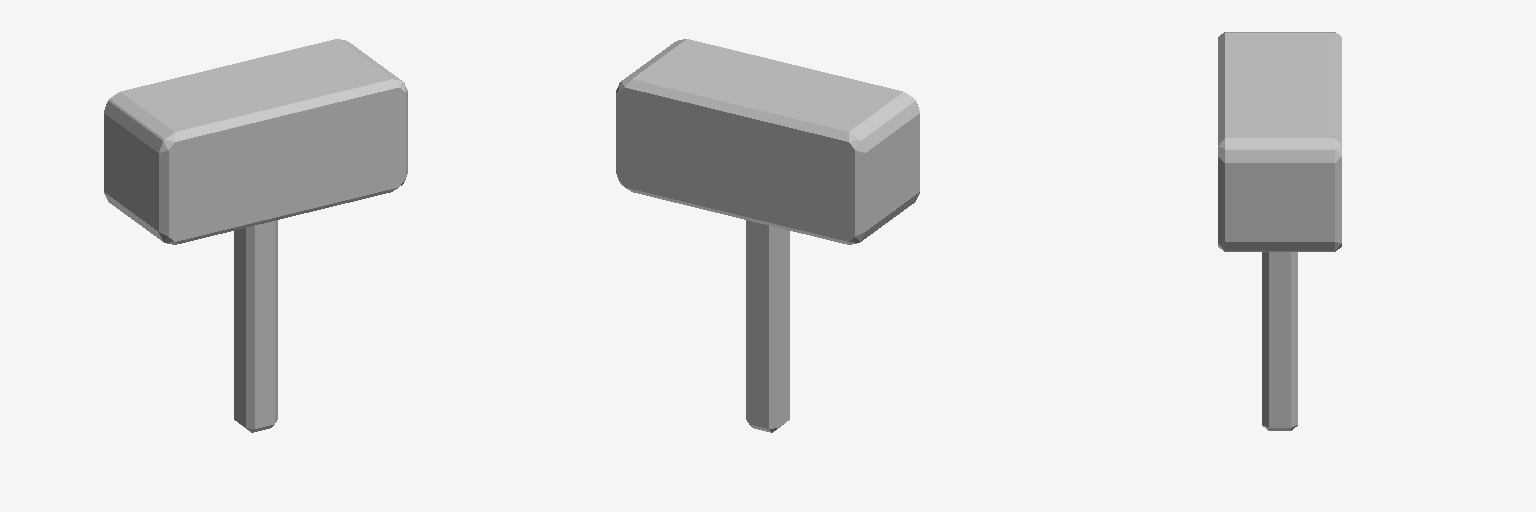
The model's file is hammer.obj.
3 renders of one model, left to right at view 1: azimuth 30°, elevation 25°; view 2: azimuth 150°, elevation 25°; view 3: azimuth 270°, elevation 25°, orthographic.
Parts seen in each view (by area): view 1: Hammer; view 2: Hammer; view 3: Hammer.
Boxes of the visible parts, box(x1,y1,x2,y2) form: Hammer: box(104, 39, 407, 432); Hammer: box(616, 39, 919, 432); Hammer: box(1218, 32, 1341, 430).
Size of the model in its own units: 0.8008 by 1.05 by 0.3463.